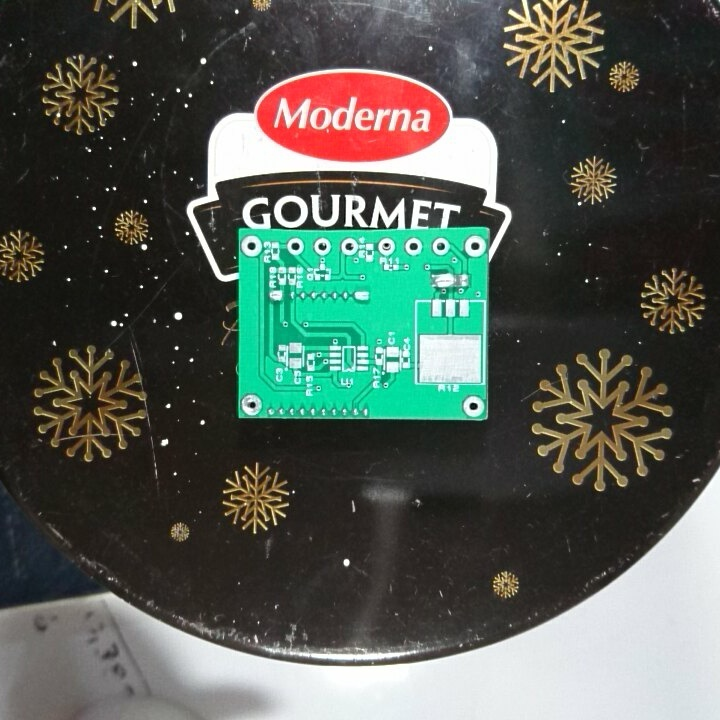F: (239, 390, 267, 416), (460, 394, 486, 419), (462, 234, 487, 259), (241, 234, 264, 260), (402, 235, 425, 257), (311, 235, 334, 257), (338, 237, 360, 258), (285, 235, 306, 257), (431, 236, 451, 258), (375, 237, 397, 257)
P: (429, 270, 458, 292), (351, 288, 374, 306), (266, 288, 285, 303)
